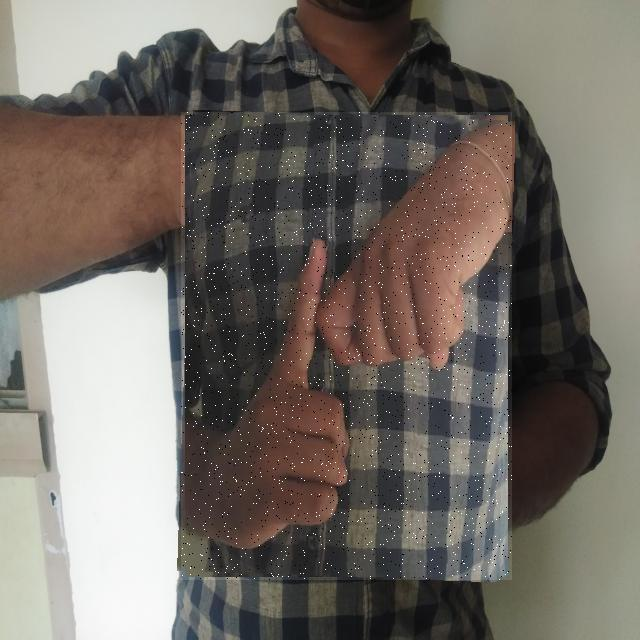K: (181, 112, 512, 580)
